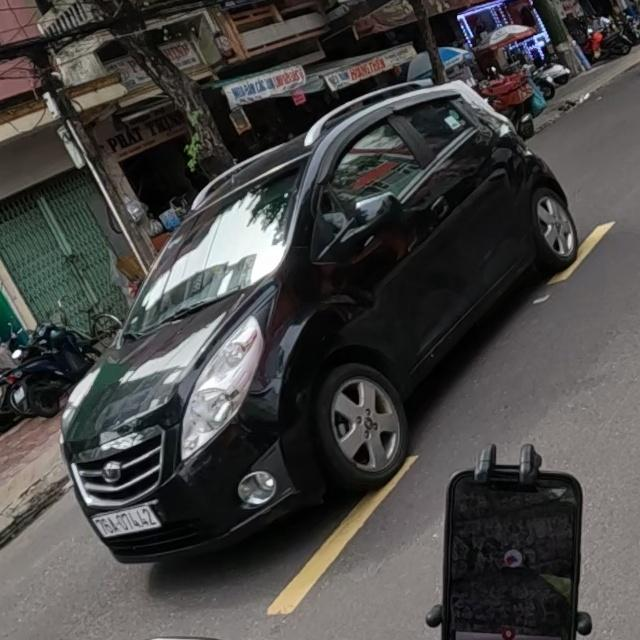license-plate: (91, 503, 164, 539)
